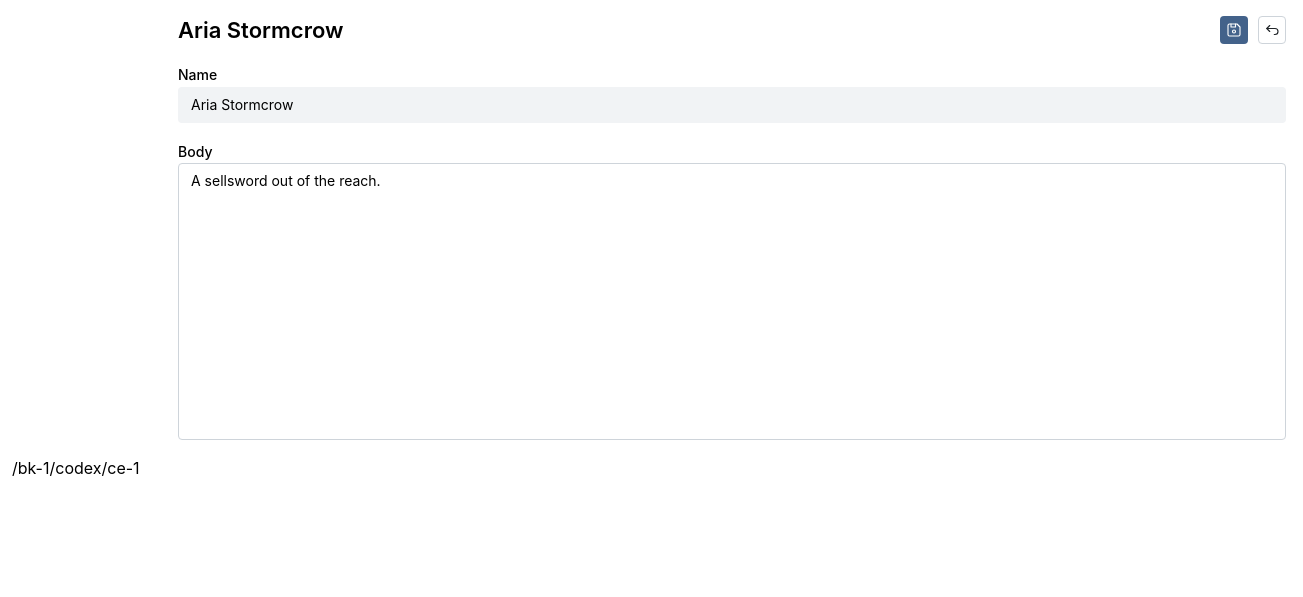
a 403 surfaces the server's reason and keeps the draft (DoD-12) › DoD-12 (decision 3): the proposal-mode refusal naming FEAT-010 is shown, draft and buffer intact
The image size is (1303, 597).
Replace the text in the text box showing "A sellsword out of the reach." with "A sellsword who answers only to coin." at {"x": 732, "y": 302}, box [178,163,1286,440]
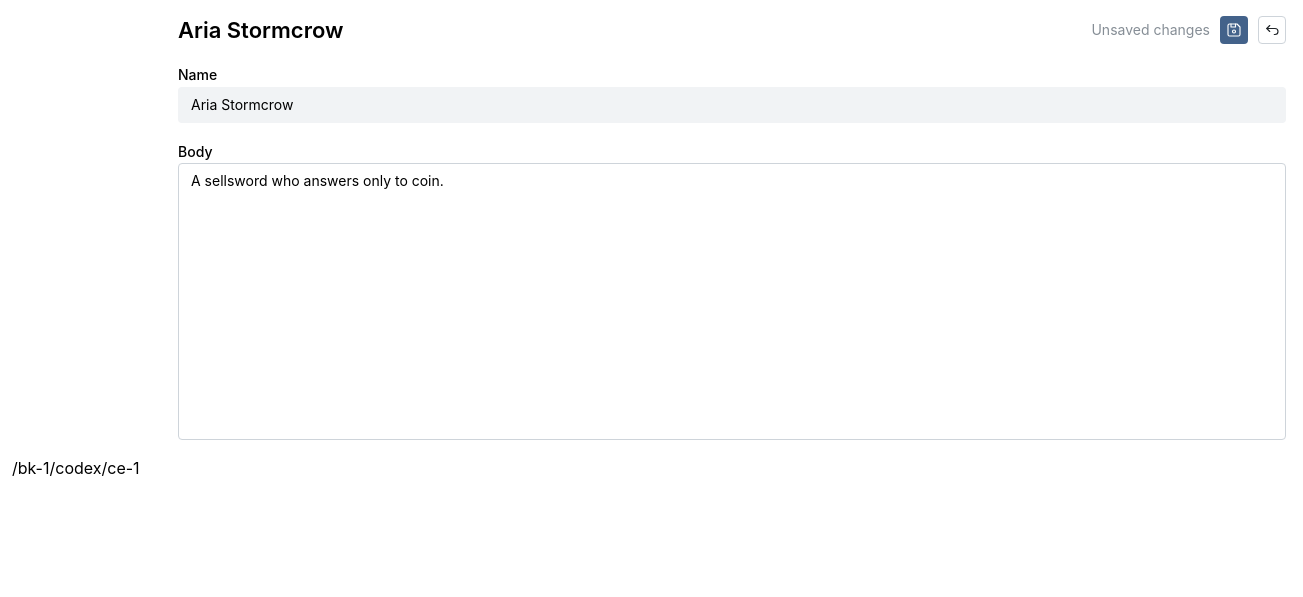
Click the button named "Save" at {"x": 1234, "y": 30}, box [1220,16,1248,44]
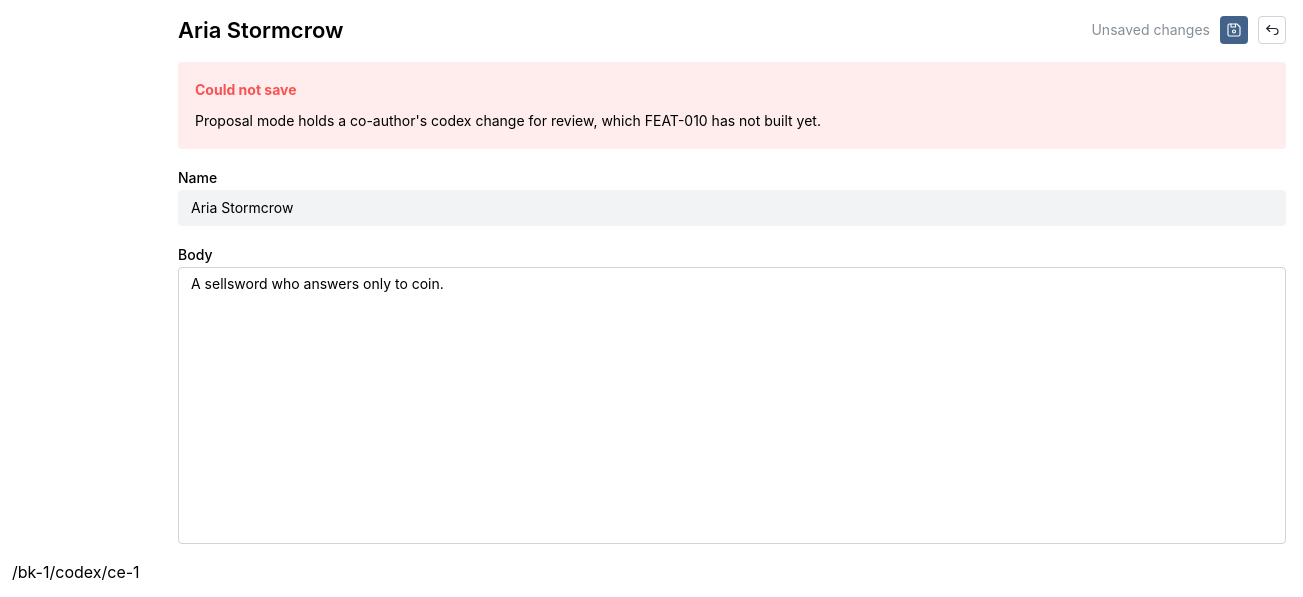
Expected: the text "FEAT-010" is shown, [195,112,821,130]
